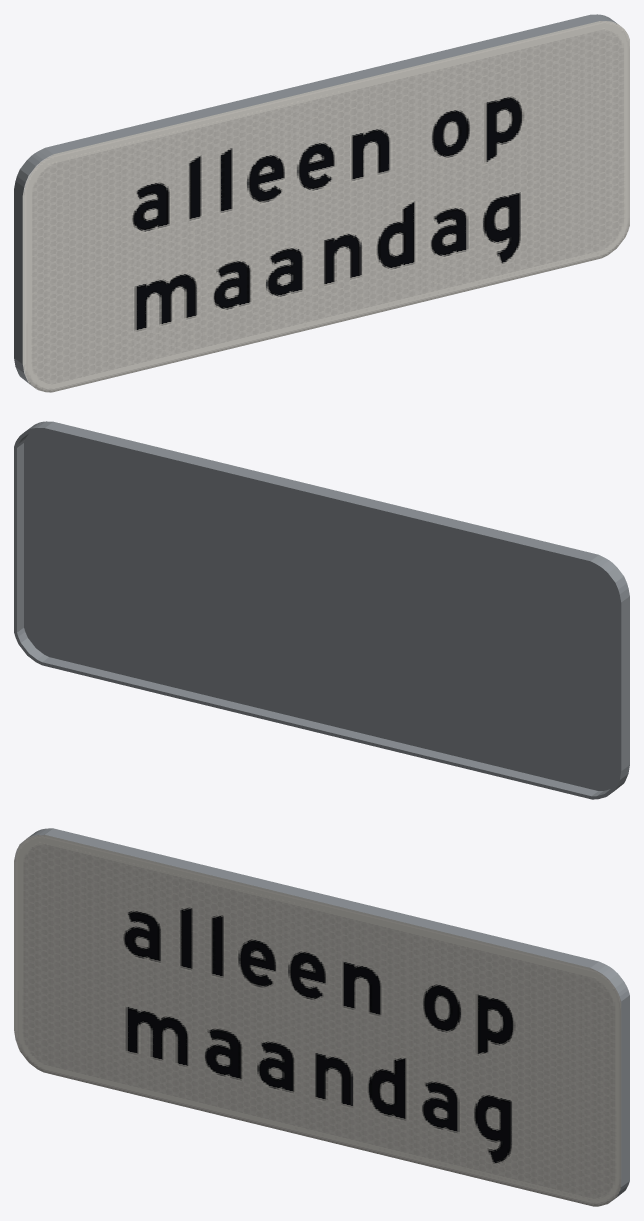
The picture shows the model from 3 angles, top to bottom: view 1: azimuth 30°, elevation 25°; view 2: azimuth 150°, elevation 25°; view 3: azimuth 330°, elevation 25°; orthographic projection.
Parts seen in each view (by area): view 1: cat_9e2c79d17f423506; view 2: cat_9e2c79d17f423506; view 3: cat_9e2c79d17f423506.
Part boxes in pixels (left/top/right/bottom): cat_9e2c79d17f423506: left=14, top=14, right=629, bottom=392; cat_9e2c79d17f423506: left=14, top=421, right=629, bottom=799; cat_9e2c79d17f423506: left=14, top=828, right=629, bottom=1206.
Size of the model in its own units: 0.6 by 0.015 by 0.2246.
2 materials, 1 textured.
